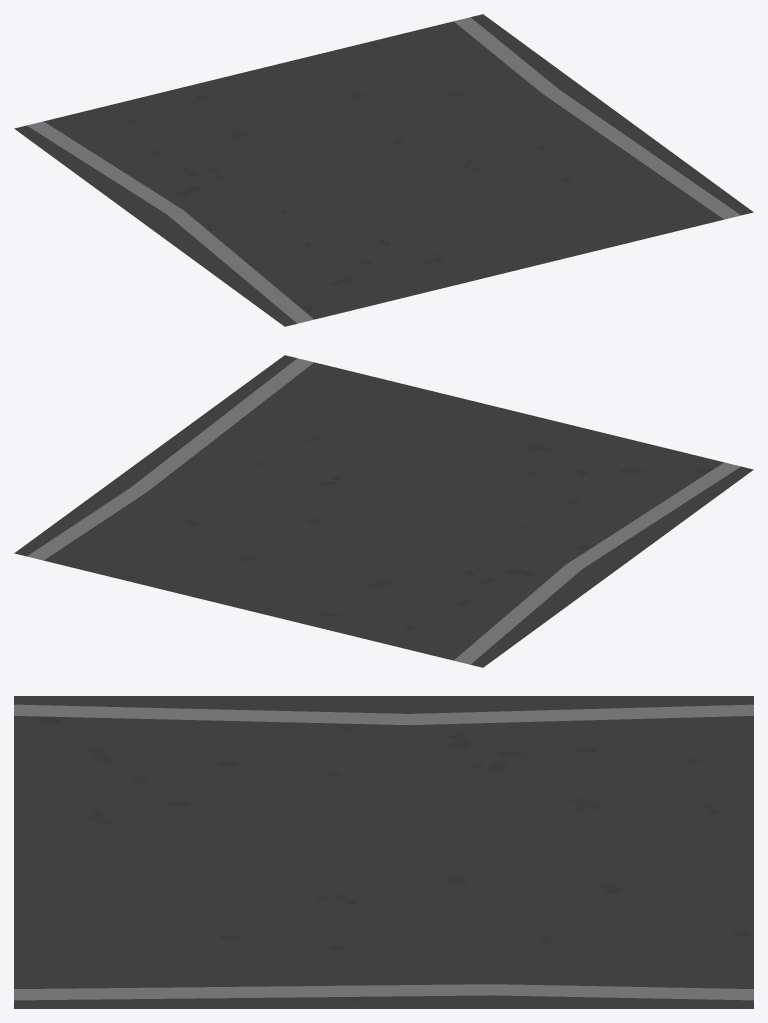
Rendered from SM_Env_Road_Lines_02.glb.
3 renders of one model, top to bottom at view 1: azimuth 30°, elevation 25°; view 2: azimuth 150°, elevation 25°; view 3: azimuth 270°, elevation 25°, orthographic. The views are drawn at different scales.
Visible parts, largest first — view 1: SM_Env_Road_Lines_02; view 2: SM_Env_Road_Lines_02; view 3: SM_Env_Road_Lines_02.
Part boxes in pixels (x1,y1,x2,y2): SM_Env_Road_Lines_02: (14, 14, 753, 326); SM_Env_Road_Lines_02: (14, 355, 753, 667); SM_Env_Road_Lines_02: (14, 696, 753, 1008).
Bounding box in the file's own units: 5 × 0 × 5.
Materials: 1 (1 with a texture image).
